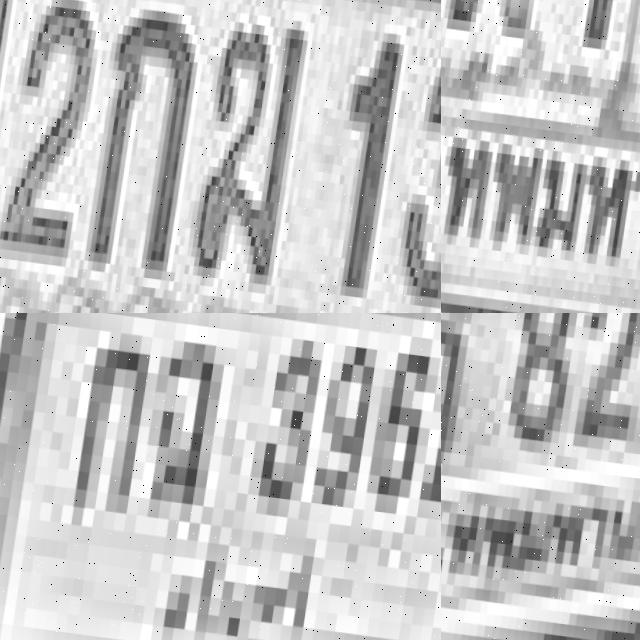license-plate: (0, 313, 441, 640), (0, 0, 441, 313), (441, 313, 640, 640), (441, 0, 640, 313)
